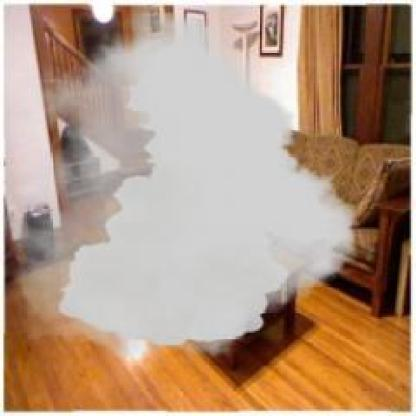Smoke: (5, 12, 357, 362)
